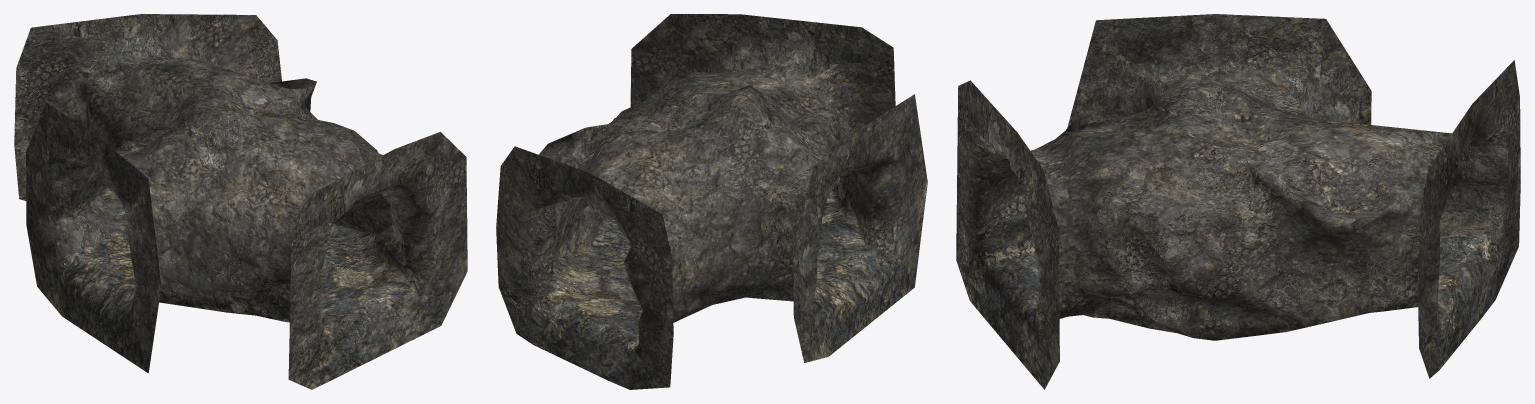
Rendered from Cave4.fbx.
3 views of the same model, side by side, from view 1: azimuth 30°, elevation 25°; view 2: azimuth 150°, elevation 25°; view 3: azimuth 270°, elevation 25° (orthographic). The views are drawn at different scales.
Visible parts, largest first — view 1: Cave4; view 2: Cave4; view 3: Cave4.
Boxes of the visible parts, box(x1,y1,x2,y2) form: Cave4: box(14, 14, 467, 389); Cave4: box(496, 14, 927, 389); Cave4: box(956, 14, 1520, 389).
Bounding box in the file's own units: 77.67 × 50.11 × 110.
